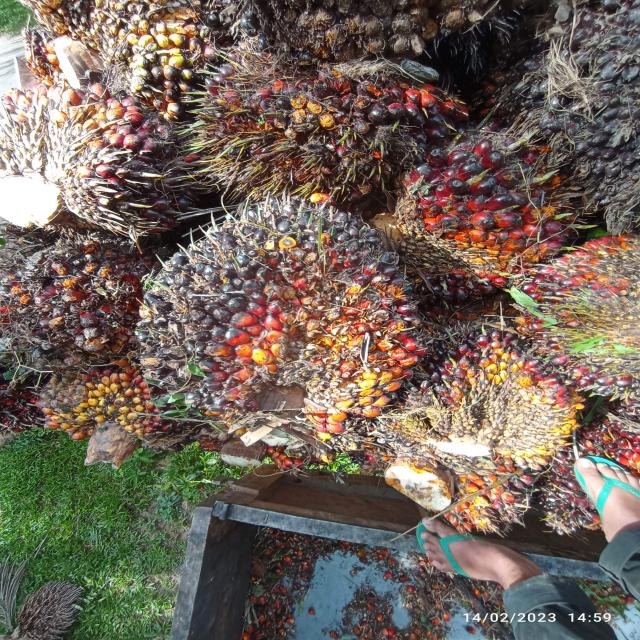fraksi 00: (114, 192, 436, 430)
fraksi 1: (168, 20, 483, 212), (401, 118, 570, 292), (511, 222, 640, 417), (0, 228, 170, 350)
